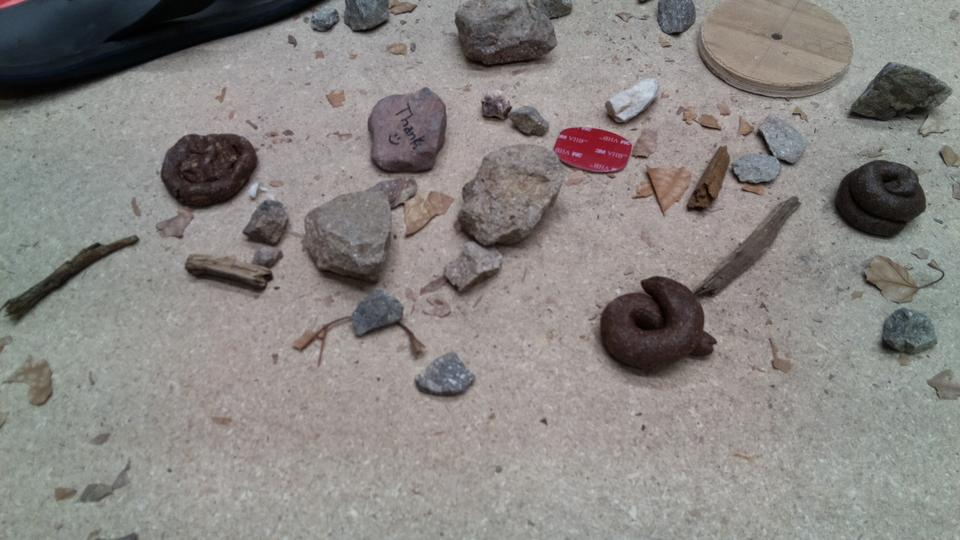poop: (600, 273, 719, 378), (158, 129, 260, 209), (834, 159, 930, 241)
